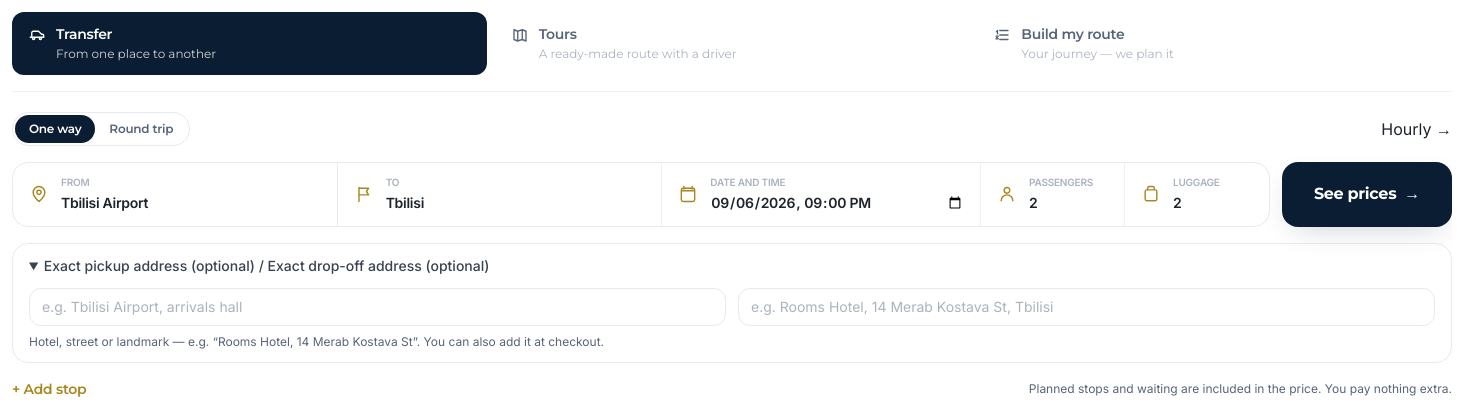
Test case: booking widget (en) › switches panels when another mode is chosen
Click the tab "Tours A ready-made route with a driver".
click(732, 43)  # box [495,12,969,74]
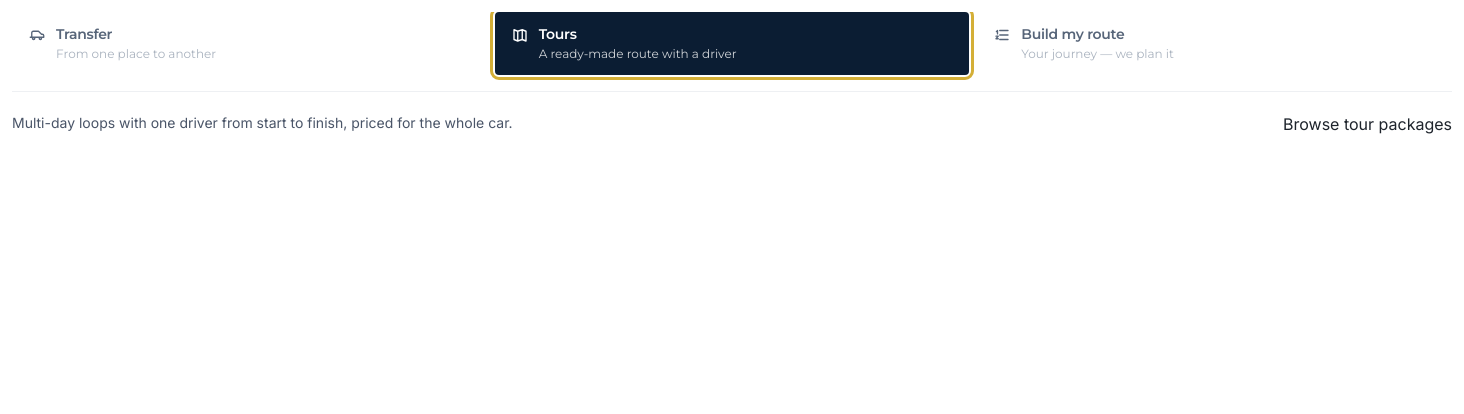
Check: the text "Multi-day loops with one driver from start to finish, priced for the whole car." is shown, box [12,112,513,135]
Check: the button "See prices" is gone
Click the tab "Build my route Your journey — we plan it".
click(1073, 34)  # box [977,12,1452,74]
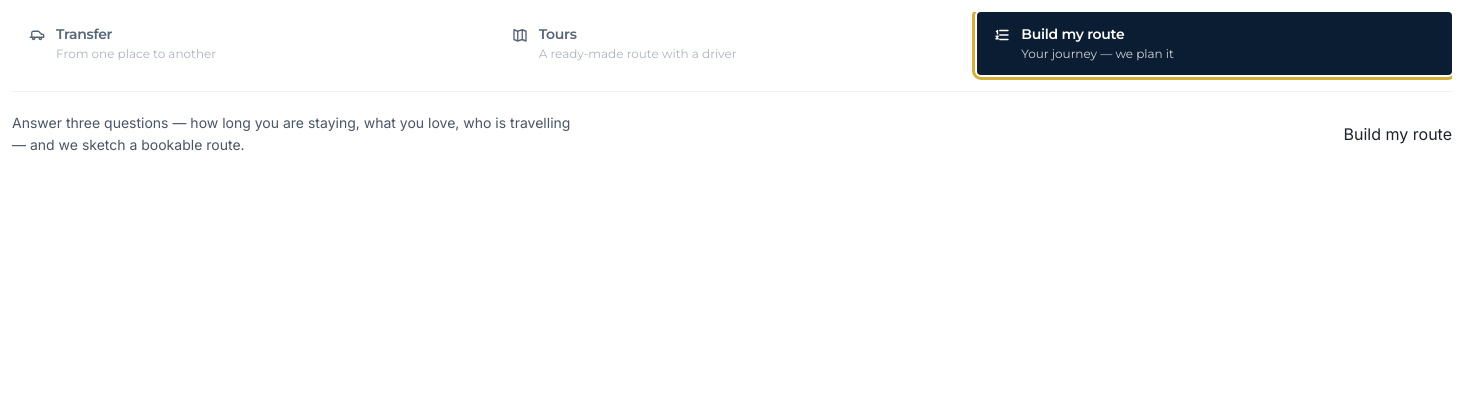
Check: the text "Answer three questions — how long you are staying, what you love, who is travelling — and we sketch a bookable route." is shown, box [12,114,570,153]
Check: the text "Multi-day loops with one driver from start to finish, priced for the whole car." is gone
Click the tab "Transfer From one place to another".
click(84, 34)  # box [12,12,487,74]
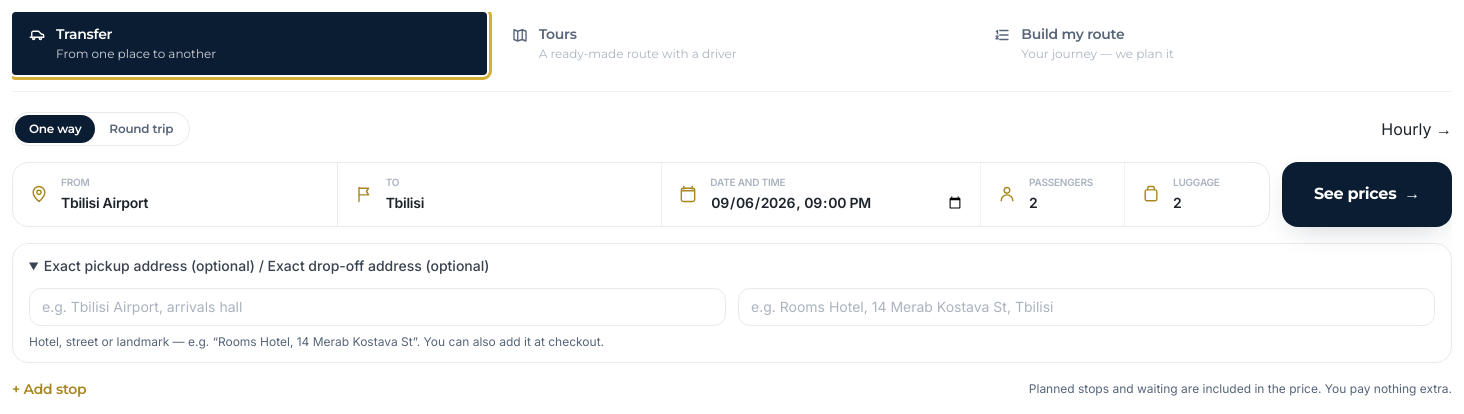
Check: the button "See prices →" is shown, box [1282,162,1452,226]
